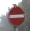No entry: (6, 5, 25, 26)
